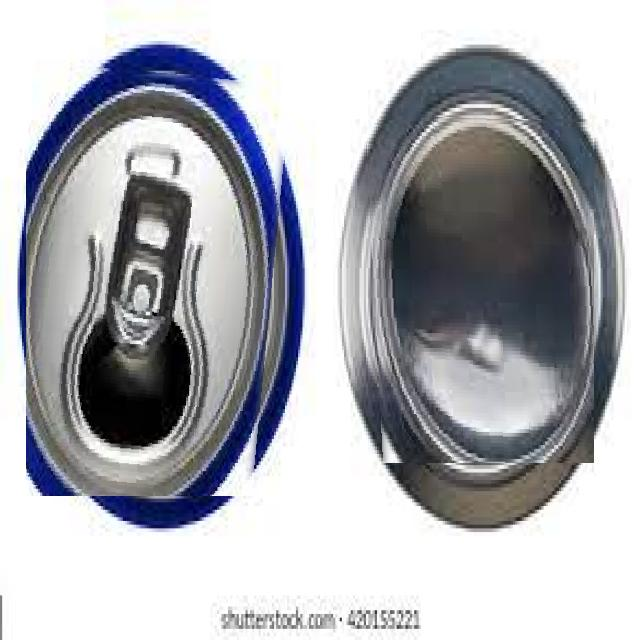Cans: (26, 60, 291, 496), (365, 114, 594, 463)
